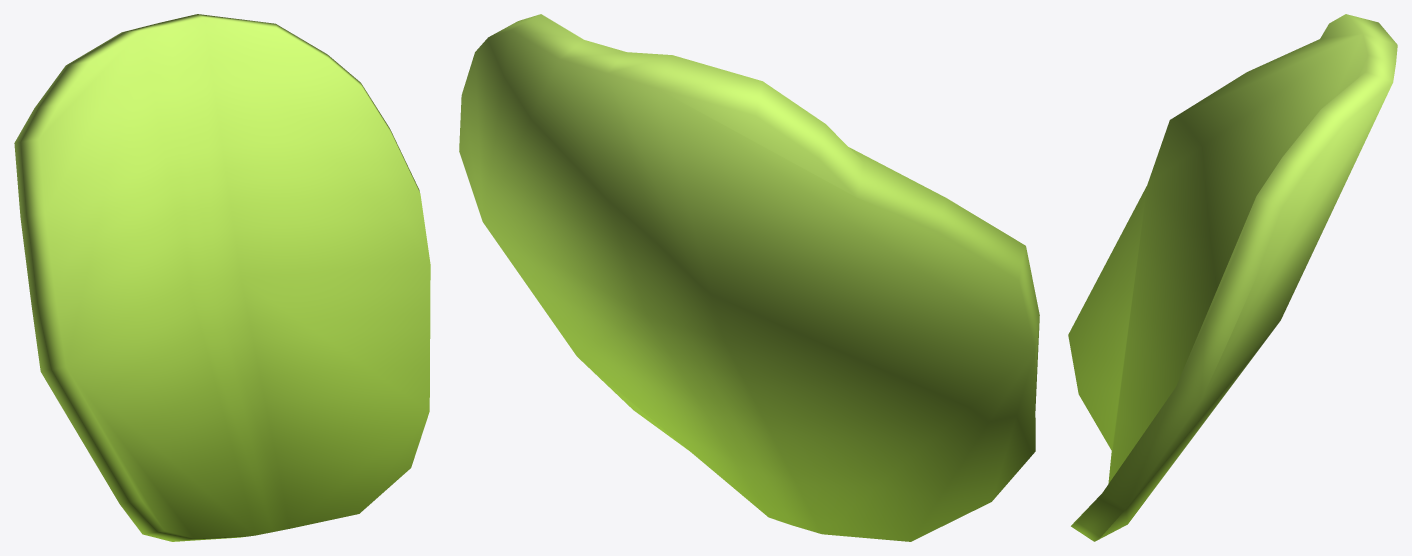
Rendered from ChoppedLettuce.fbx.
3 views of the same model, side by side, from view 1: azimuth 30°, elevation 25°; view 2: azimuth 150°, elevation 25°; view 3: azimuth 270°, elevation 25° (orthographic). The views are drawn at different scales.
Parts seen in each view (by area): view 1: LettuceSalad; view 2: LettuceSalad; view 3: LettuceSalad.
Part boxes in pixels (left/top/right/bottom): LettuceSalad: left=14, top=14, right=430, bottom=541; LettuceSalad: left=459, top=14, right=1039, bottom=541; LettuceSalad: left=1068, top=14, right=1397, bottom=541.
Bounding box in the file's own units: 0.4162 × 0.424 × 0.2686.
